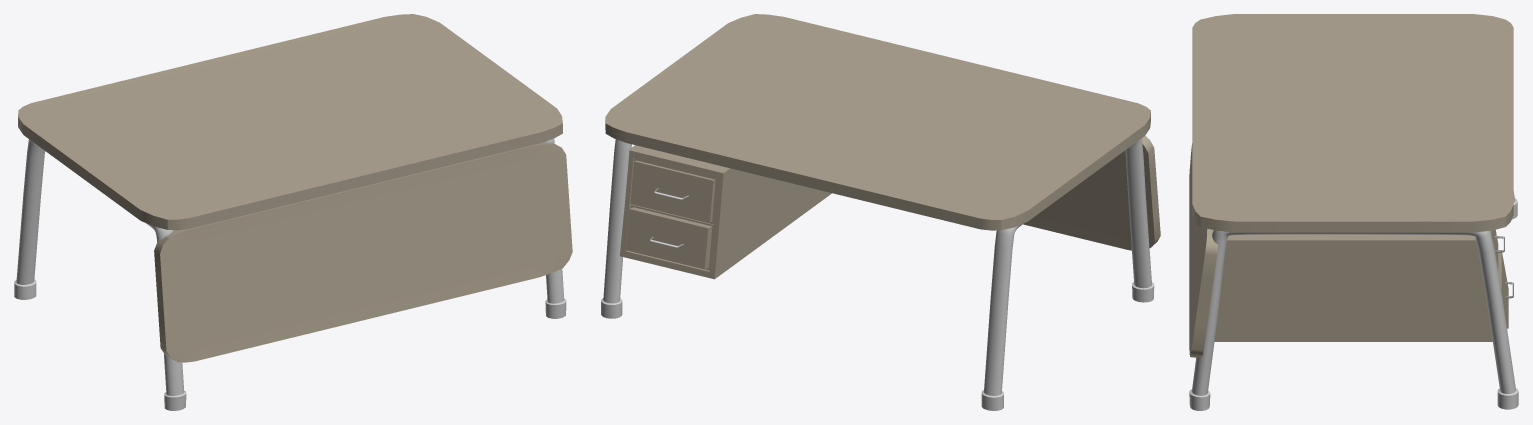
File: Escritorio_profesor.fbx
The picture shows the model from 3 angles, left to right: view 1: azimuth 30°, elevation 25°; view 2: azimuth 150°, elevation 25°; view 3: azimuth 270°, elevation 25°; orthographic projection. The views are drawn at different scales.
Parts seen in each view (by area): view 1: Escritorio_profesor; view 2: Escritorio_profesor; view 3: Escritorio_profesor.
Boxes of the visible parts, x1,y1,x2,y2 form: Escritorio_profesor: [14, 14, 572, 410]; Escritorio_profesor: [601, 14, 1160, 410]; Escritorio_profesor: [1189, 14, 1518, 410].
Size of the model in its own units: 4.38 by 1.91 by 2.94.
